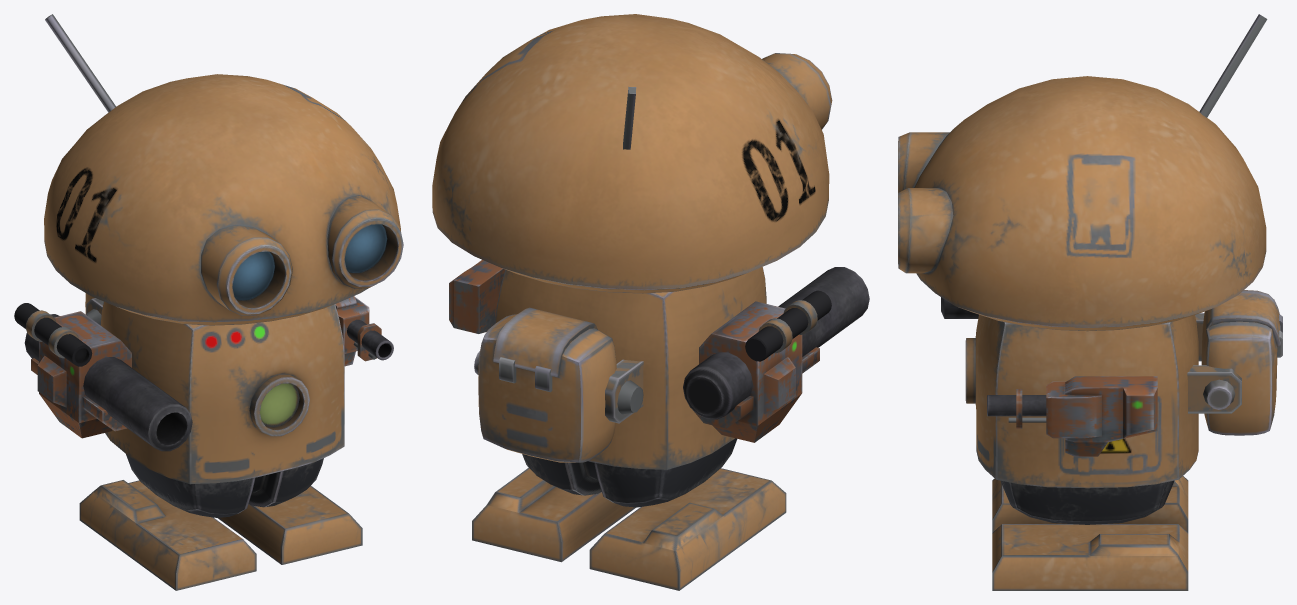
File: robot2.fbx
3 views of the same model, side by side, from view 1: azimuth 30°, elevation 25°; view 2: azimuth 150°, elevation 25°; view 3: azimuth 270°, elevation 25° (orthographic). The views are drawn at different scales.
Visible parts, largest first — view 1: Cube.084, Cube.085, Cube.090, Cube.080, Cube.083, Cube.088; view 2: Cube.084, Cube.085, Cube.090, Cube.082, Cube.080, Cube.083, Cube.088; view 3: Cube.084, Cube.085, Cube.090, Cube.088, Cube.082, Cube.083.
Part boxes in pixels (x1,y1,x2,y2): Cube.084: [44, 14, 403, 325]; Cube.085: [86, 298, 344, 484]; Cube.090: [79, 480, 362, 590]; Cube.080: [14, 303, 192, 451]; Cube.083: [126, 454, 323, 517]; Cube.088: [335, 296, 393, 366]; Cube.084: [432, 14, 832, 293]; Cube.085: [474, 267, 766, 469]; Cube.090: [472, 467, 786, 590]; Cube.082: [478, 307, 616, 462]; Cube.080: [683, 267, 869, 442]; Cube.083: [522, 438, 737, 507]; Cube.088: [449, 260, 505, 333]; Cube.084: [898, 14, 1267, 331]; Cube.085: [965, 313, 1241, 488]; Cube.090: [992, 476, 1188, 590]; Cube.088: [987, 376, 1157, 456]; Cube.082: [1201, 290, 1282, 435]; Cube.083: [1001, 480, 1173, 524].
Size of the model in its own units: 258 by 368 by 264.
